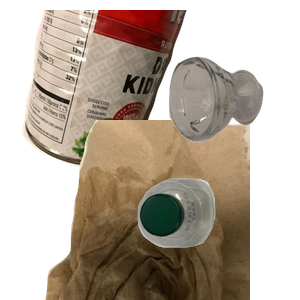glass: (166, 54, 300, 189)
metal: (20, 10, 199, 172)
plastic: (135, 176, 300, 300)
trash: (43, 120, 283, 300)
